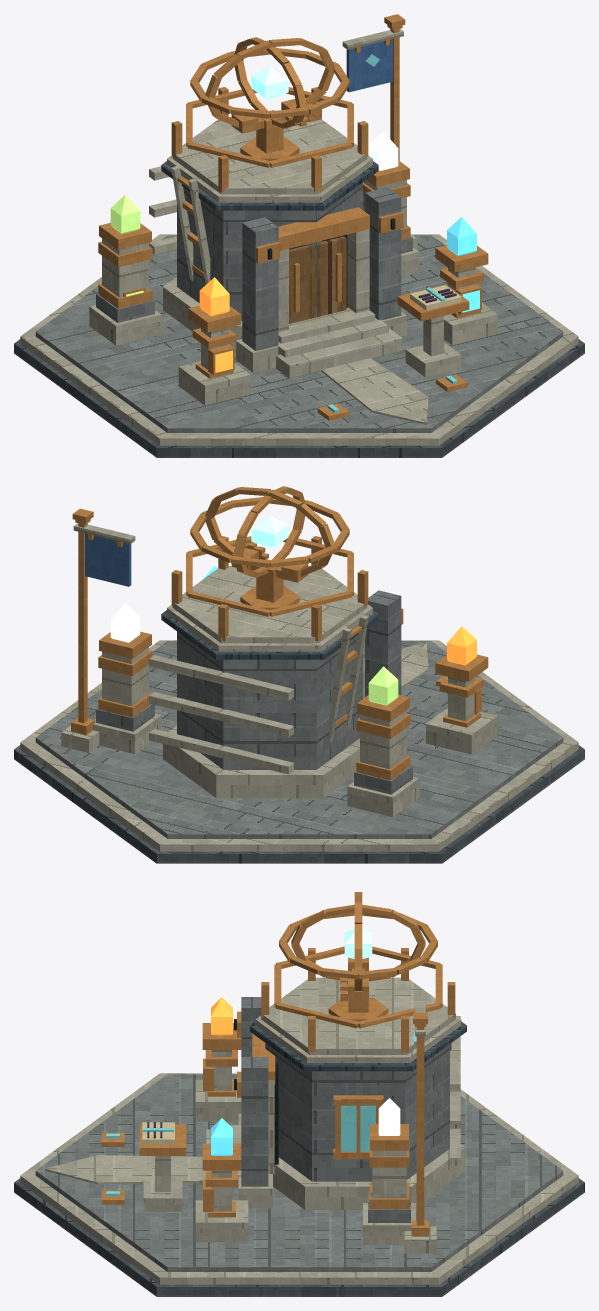
Rendered from dwarf_elemental_observatory_hex_v1.glb.
3 views of the same model, one above another, from view 1: azimuth 30°, elevation 25°; view 2: azimuth 150°, elevation 25°; view 3: azimuth 270°, elevation 25° (orthographic).
Visible parts, largest first — view 1: Dwarf_Elemental_Observatory_Hex_V1_Foundation, Dwarf_Elemental_Observatory_Hex_V1_Focus, Dwarf_Elemental_Observatory_Hex_V1_Hall, Dwarf_Elemental_Observatory_Hex_V1_Roofs, Dwarf_Elemental_Observatory_Hex_V1_Details, Dwarf_Elemental_Observatory_Hex_V1_Courtyard, Dwarf_Elemental_Observatory_Hex_V1_Training, Dwarf_Elemental_Observatory_Hex_V1_Faction; view 2: Dwarf_Elemental_Observatory_Hex_V1_Foundation, Dwarf_Elemental_Observatory_Hex_V1_Focus, Dwarf_Elemental_Observatory_Hex_V1_Hall, Dwarf_Elemental_Observatory_Hex_V1_Roofs, Dwarf_Elemental_Observatory_Hex_V1_Details, Dwarf_Elemental_Observatory_Hex_V1_Faction, Dwarf_Elemental_Observatory_Hex_V1_Courtyard; view 3: Dwarf_Elemental_Observatory_Hex_V1_Foundation, Dwarf_Elemental_Observatory_Hex_V1_Focus, Dwarf_Elemental_Observatory_Hex_V1_Hall, Dwarf_Elemental_Observatory_Hex_V1_Roofs, Dwarf_Elemental_Observatory_Hex_V1_Details, Dwarf_Elemental_Observatory_Hex_V1_Courtyard, Dwarf_Elemental_Observatory_Hex_V1_Training, Dwarf_Elemental_Observatory_Hex_V1_Faction.
Part boxes in pixels (<box>): Dwarf_Elemental_Observatory_Hex_V1_Foundation: <box>14,234,584,457</box>; Dwarf_Elemental_Observatory_Hex_V1_Focus: <box>89,37,497,405</box>; Dwarf_Elemental_Observatory_Hex_V1_Hall: <box>163,182,369,349</box>; Dwarf_Elemental_Observatory_Hex_V1_Roofs: <box>161,87,378,210</box>; Dwarf_Elemental_Observatory_Hex_V1_Details: <box>149,166,467,420</box>; Dwarf_Elemental_Observatory_Hex_V1_Courtyard: <box>276,308,428,424</box>; Dwarf_Elemental_Observatory_Hex_V1_Training: <box>126,229,479,376</box>; Dwarf_Elemental_Observatory_Hex_V1_Faction: <box>342,14,416,249</box>; Dwarf_Elemental_Observatory_Hex_V1_Foundation: <box>14,640,584,863</box>; Dwarf_Elemental_Observatory_Hex_V1_Focus: <box>93,486,497,816</box>; Dwarf_Elemental_Observatory_Hex_V1_Hall: <box>163,631,364,798</box>; Dwarf_Elemental_Observatory_Hex_V1_Roofs: <box>161,536,378,659</box>; Dwarf_Elemental_Observatory_Hex_V1_Details: <box>149,590,447,774</box>; Dwarf_Elemental_Observatory_Hex_V1_Faction: <box>61,508,135,752</box>; Dwarf_Elemental_Observatory_Hex_V1_Courtyard: <box>401,642,428,688</box>; Dwarf_Elemental_Observatory_Hex_V1_Foundation: <box>14,1073,584,1296</box>; Dwarf_Elemental_Observatory_Hex_V1_Focus: <box>195,892,437,1244</box>; Dwarf_Elemental_Observatory_Hex_V1_Hall: <box>252,1033,465,1209</box>; Dwarf_Elemental_Observatory_Hex_V1_Roofs: <box>250,946,466,1071</box>; Dwarf_Elemental_Observatory_Hex_V1_Details: <box>101,997,460,1208</box>; Dwarf_Elemental_Observatory_Hex_V1_Courtyard: <box>45,1125,241,1197</box>; Dwarf_Elemental_Observatory_Hex_V1_Training: <box>139,1122,186,1211</box>; Dwarf_Elemental_Observatory_Hex_V1_Faction: <box>404,1004,436,1253</box>.
Size of the model in its own units: 1.59 by 1.03 by 1.84.
1 material, 1 textured.
